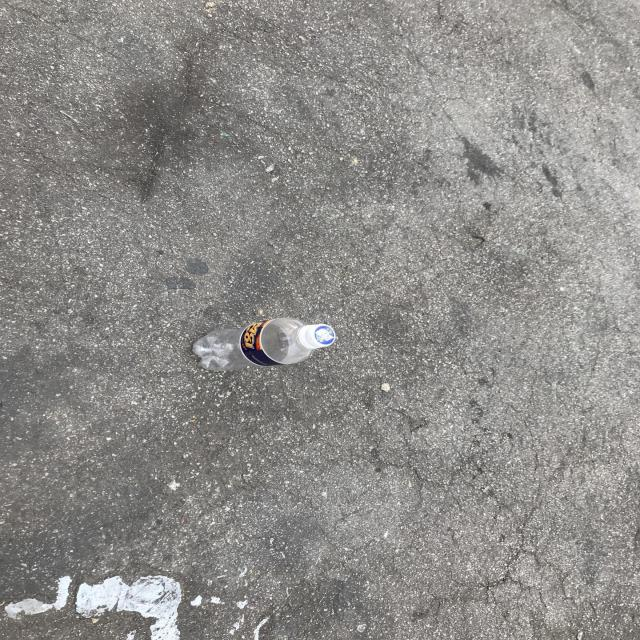plastic: (192, 318, 336, 372)
